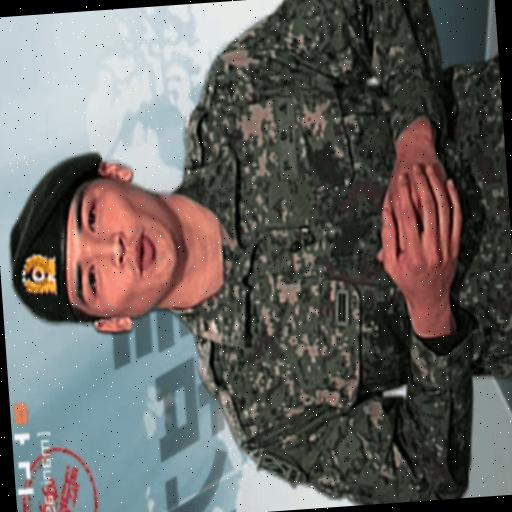korea army: (154, 0, 512, 511)
